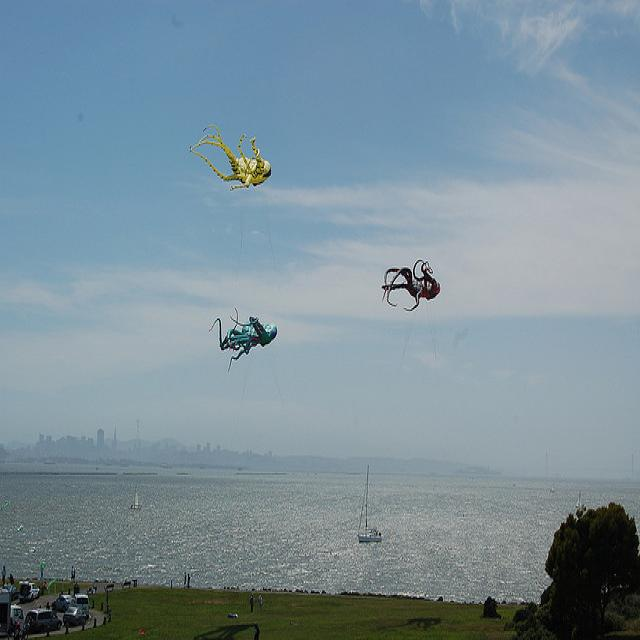Vehicle: (0, 589, 24, 637), (25, 608, 63, 633), (63, 604, 87, 628), (19, 581, 41, 602), (73, 594, 89, 617), (52, 594, 71, 612), (10, 606, 25, 628), (19, 583, 40, 598), (1, 585, 17, 593)
